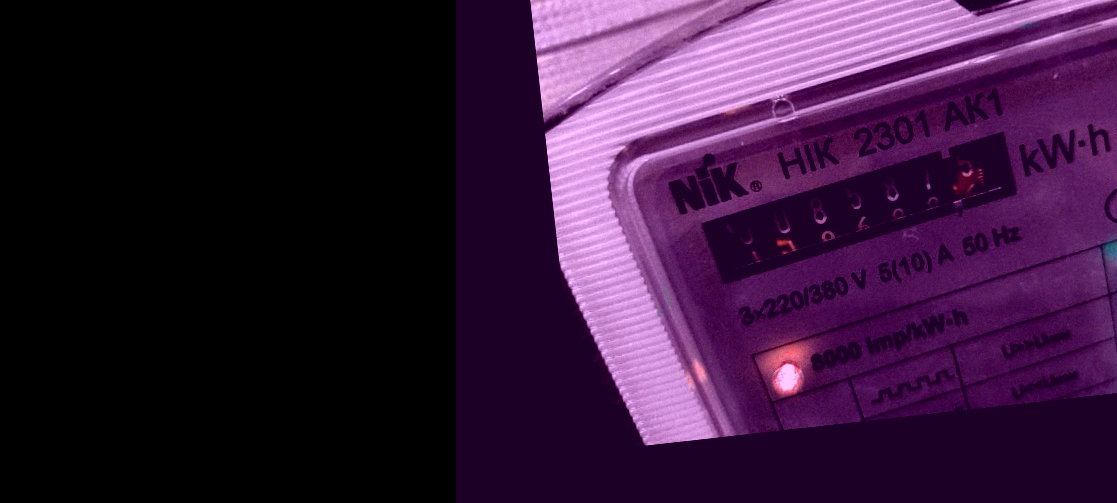0: (767, 200, 797, 237), (730, 212, 760, 247)
5: (841, 179, 867, 213), (952, 145, 977, 178)
6: (961, 180, 981, 199)
7: (914, 158, 940, 194)
8: (805, 192, 833, 227), (877, 169, 904, 205)
screen: (687, 127, 1046, 287)
